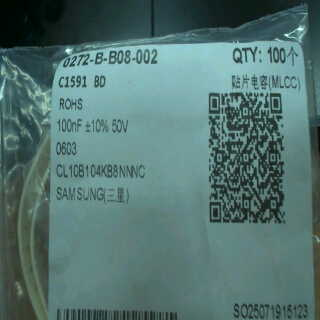100nF: (53, 114, 85, 136)
